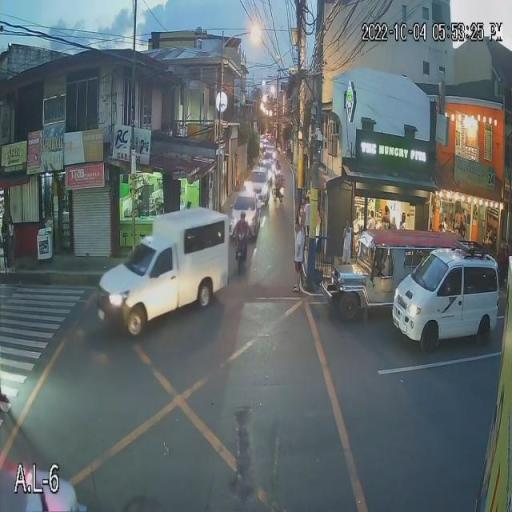helmet: (238, 210, 248, 223)
motorcycle: (236, 229, 245, 274)
rider: (235, 217, 250, 248)
